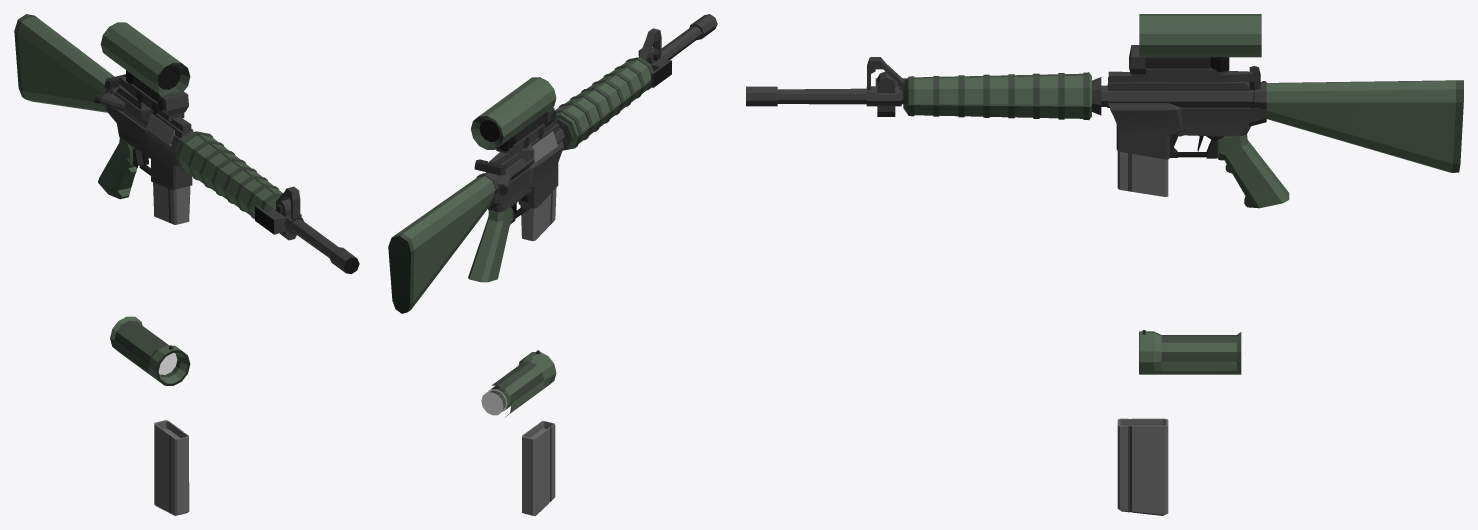
File: Ar16_Gun.glb
3 renders of one model, left to right at view 1: azimuth 30°, elevation 25°; view 2: azimuth 150°, elevation 25°; view 3: azimuth 270°, elevation 25°, orthographic. The views are drawn at different scales.
Parts seen in each view (by area): view 1: Ar16LowPoly, Ar16Mag, Ar16Scope; view 2: Ar16LowPoly, Ar16Mag, Ar16Scope, Ar16Glass; view 3: Ar16LowPoly, Ar16Mag, Ar16Scope.
Boxes of the visible parts, x1=… form: Ar16LowPoly: x1=14, y1=14, x2=359, y2=274; Ar16Mag: x1=154, y1=420, x2=189, y2=515; Ar16Scope: x1=110, y1=316, x2=190, y2=385; Ar16LowPoly: x1=388, y1=14, x2=717, y2=313; Ar16Mag: x1=522, y1=421, x2=555, y2=515; Ar16Scope: x1=489, y1=350, x2=556, y2=416; Ar16Glass: x1=481, y1=392, x2=503, y2=415; Ar16LowPoly: x1=746, y1=14, x2=1463, y2=208; Ar16Mag: x1=1117, y1=418, x2=1168, y2=515; Ar16Scope: x1=1139, y1=330, x2=1241, y2=374.
Bounding box in the file's own units: 0.0951 × 0.9557 × 1.25.
4 materials, 1 textured.
